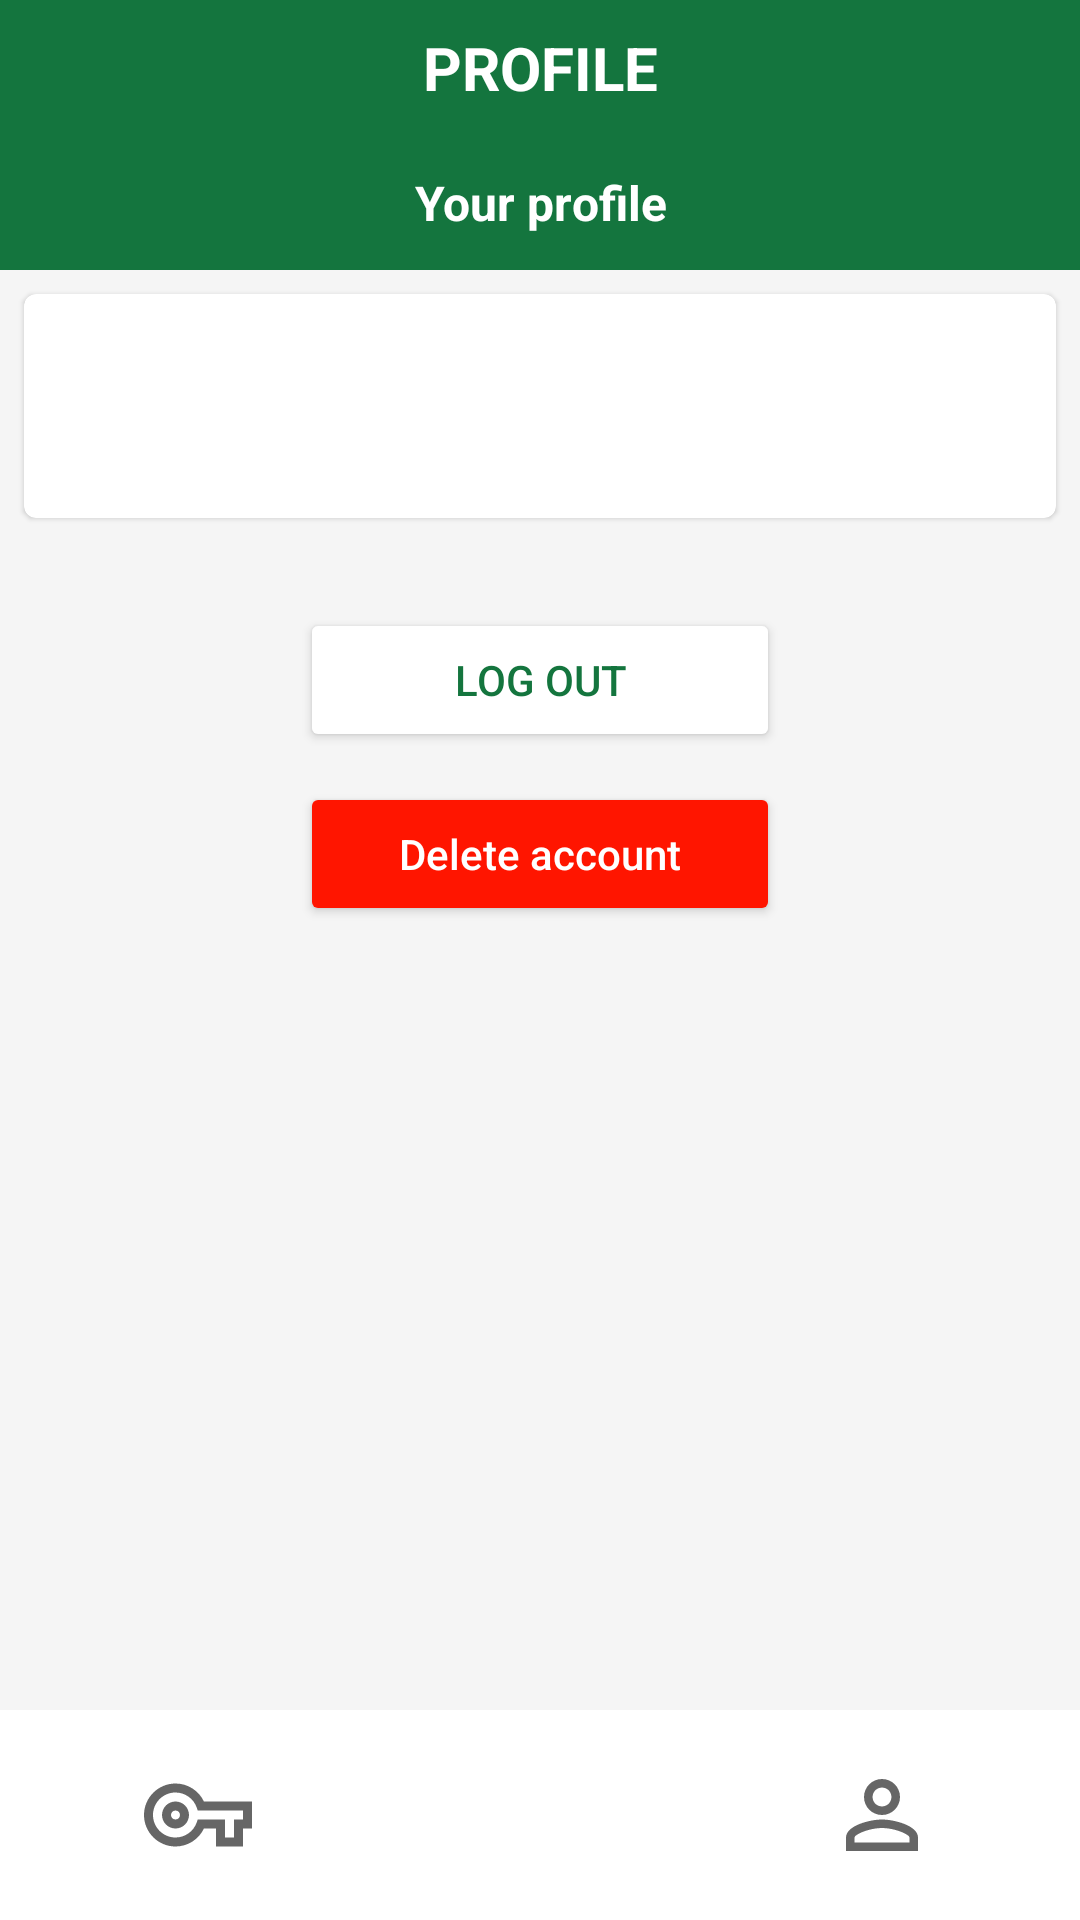

Icons on this 1080 x 1920 Android screen, each with its box as (x1, y1, x2, y2):
person: (846, 1779, 918, 1851)
vpn key: (144, 1783, 252, 1847)
